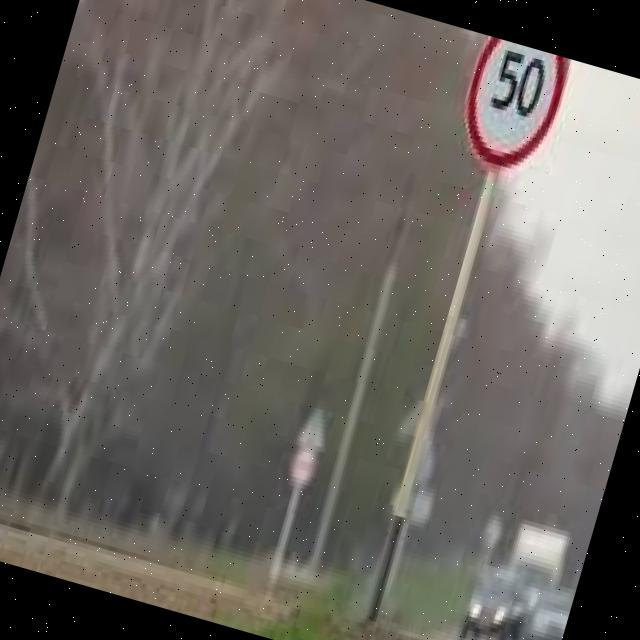speed_limit_50: (442, 33, 576, 186)
